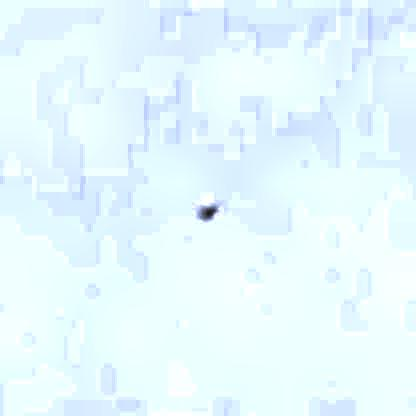golfball: (197, 194, 216, 216)
